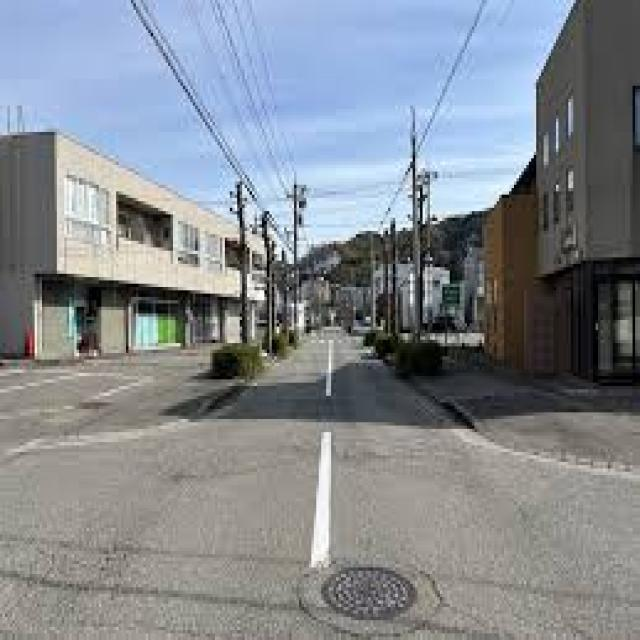manhole: (323, 568, 416, 622)
